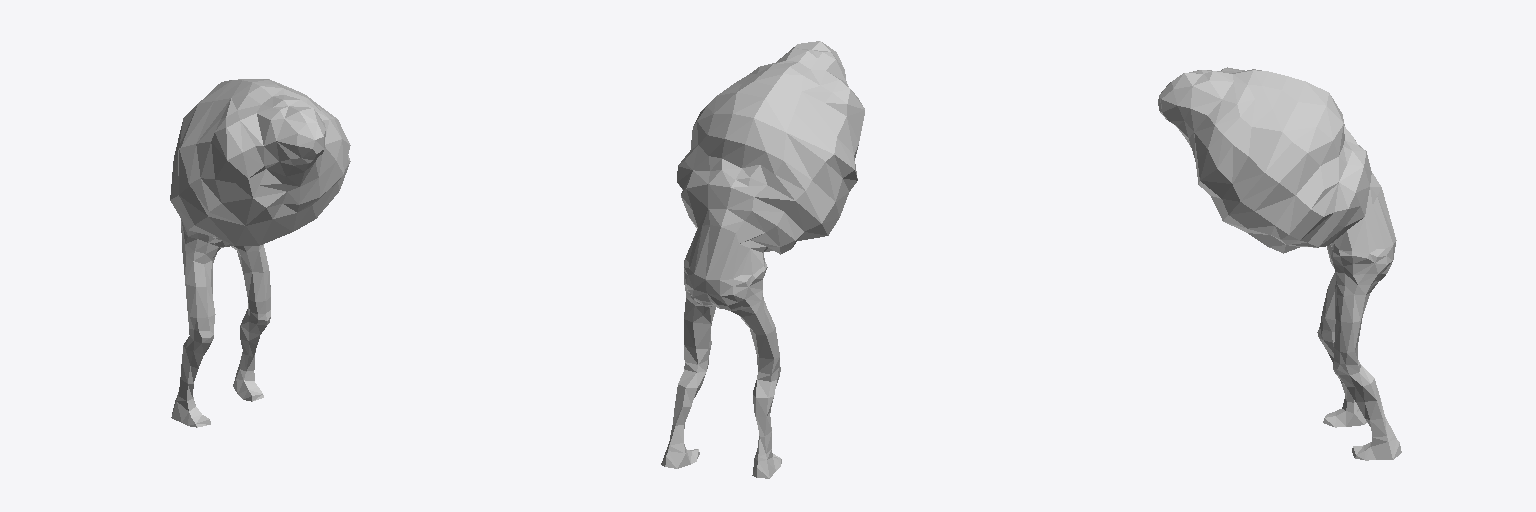
Rendered from Ataque2.obj.
3 renders of one model, left to right at view 1: azimuth 30°, elevation 25°; view 2: azimuth 150°, elevation 25°; view 3: azimuth 270°, elevation 25°, orthographic.
Visible parts, largest first — view 1: Ataque2:null_; view 2: Ataque2:null_; view 3: Ataque2:null_.
Boxes of the visible parts, <box> form: Ataque2:null_: <box>170,79,350,427</box>; Ataque2:null_: <box>661,41,864,478</box>; Ataque2:null_: <box>1158,67,1401,460</box>.
Size of the model in its own units: 17.82 by 40.26 by 24.42.